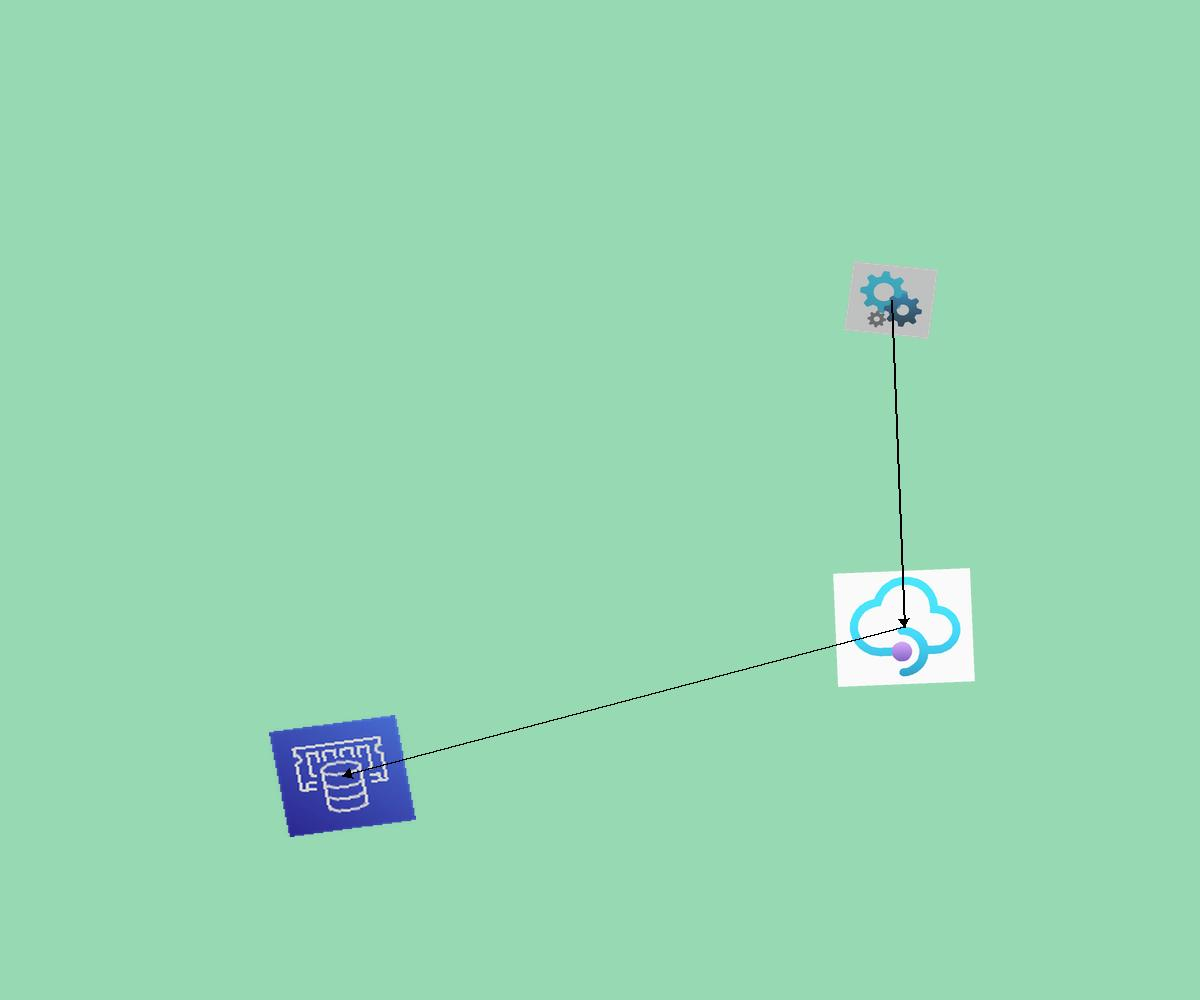AWS-ElastiCache: (269, 715, 416, 837)
Azure_api: (844, 261, 938, 339)
Azure_api_gateway: (833, 568, 975, 687)
